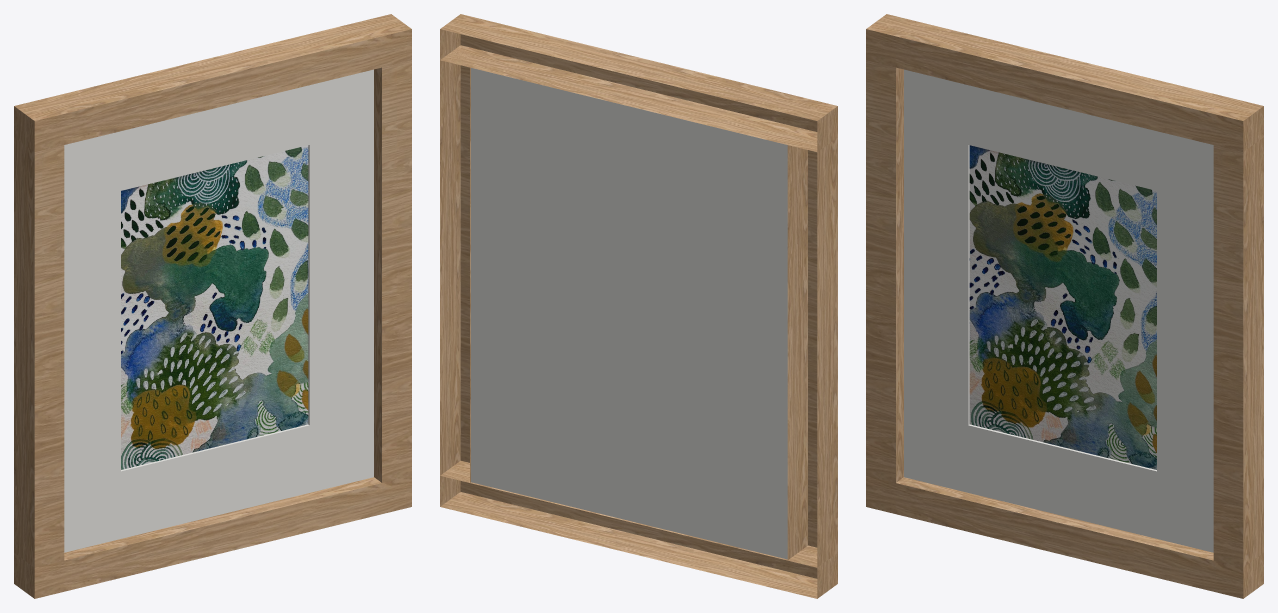
Rendered from tidal-blues.glb.
The picture shows the model from 3 angles, left to right: view 1: azimuth 30°, elevation 25°; view 2: azimuth 150°, elevation 25°; view 3: azimuth 330°, elevation 25°; orthographic projection.
Parts seen in each view (by area): view 1: framed-art; view 2: framed-art; view 3: framed-art.
Part boxes in pixels (<box>): framed-art: <box>14,14,411,598</box>; framed-art: <box>440,14,837,598</box>; framed-art: <box>866,14,1263,598</box>.
Size of the model in its own units: 0.2413 by 0.2921 by 0.0229.
Materials: 3 (3 with a texture image).
